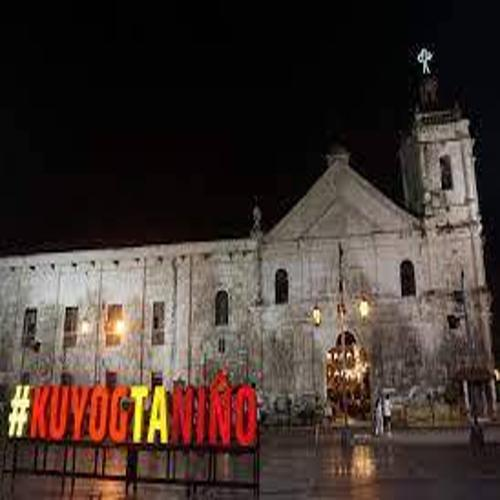Sto. Nino Basilica Church: (252, 37, 500, 434)
